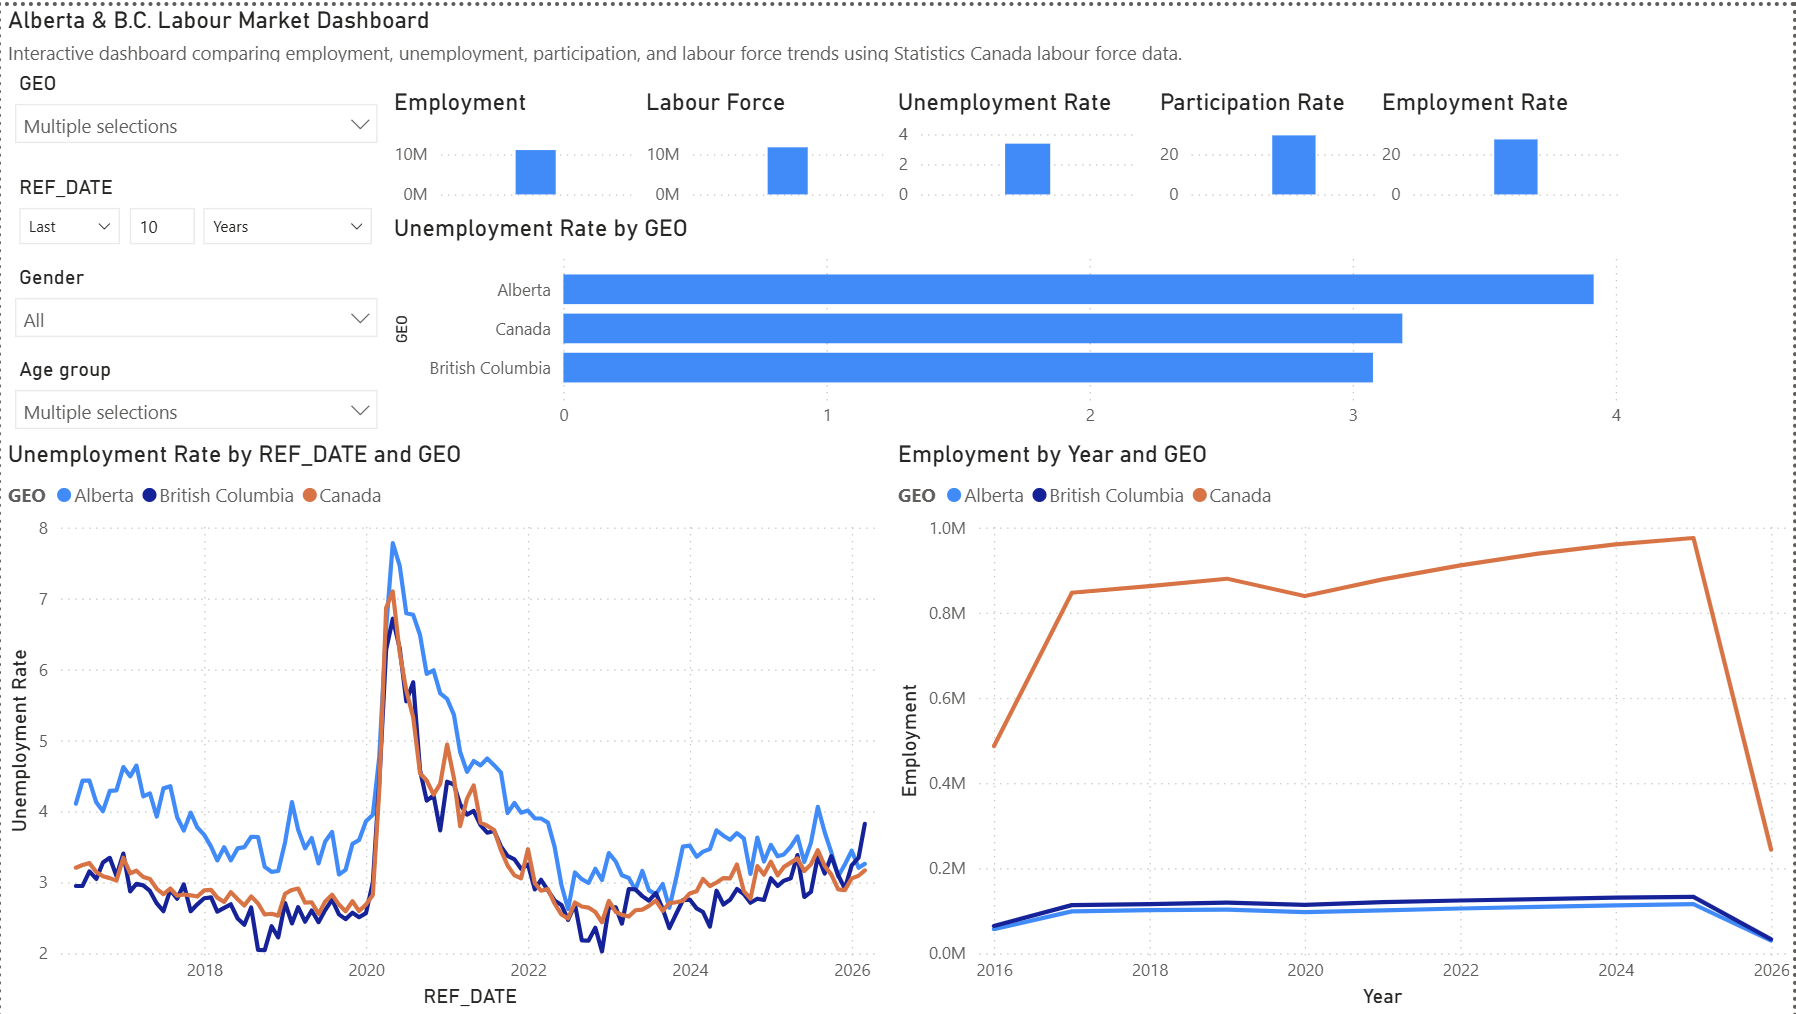

Layout of this report page (visuals, bound fields, positions):
{"tool":"powerbi","page":{"name":"Page 1","canvas":[1280,720],"ordinal":0},"visuals":[{"type":"columnChart","fields":{"Y":["14100287.Employment"]},"box":[275,58.3,180,90],"z":0},{"type":"slicer","fields":{"Values":["14100287.GEO"]},"box":[0,40.9,279.1,74.9],"z":1000},{"type":"slicer","fields":{"Values":["14100287.REF_DATE"]},"box":[0,115.7,279.1,64.7],"z":2000},{"type":"slicer","fields":{"Values":["14100287.Gender"]},"box":[0,180.4,279.1,64.7],"z":3000},{"type":"slicer","fields":{"Values":["14100287.Age group"]},"box":[0,245.1,279.1,64.7],"z":4000},{"type":"lineChart","fields":{"Category":["14100287.REF_DATE"],"Y":["14100287.Unemployment Rate"],"Series":["14100287.GEO"]},"box":[0,310,635,410],"z":5000},{"type":"lineChart","fields":{"Category":["14100287.REF_DATE.Variation.Date Hierarchy.Year","14100287.REF_DATE.Variation.Date Hierarchy.Quarter","14100287.REF_DATE.Variation.Date Hierarchy.Month","14100287.REF_DATE.Variation.Date Hierarchy.Day"],"Y":["14100287.Employment"],"Series":["14100287.GEO"]},"box":[635,310,646.7,410],"z":6000},{"type":"clusteredBarChart","fields":{"Category":["14100287.GEO"],"Y":["14100287.Unemployment Rate"]},"box":[275,148.3,886.7,161.7],"z":7000},{"type":"textbox","title":"Alberta & B.C. Labour Market Dashboard","box":[0,0,876.2,40],"z":8000},{"type":"columnChart","fields":{"Y":["14100287.Labour Force"]},"box":[455.5,58.2,180,90],"z":9000},{"type":"columnChart","fields":{"Y":["14100287.Unemployment Rate"]},"box":[635.5,59.1,180,90],"z":10000},{"type":"columnChart","fields":{"Y":["14100287.Participation Rate"]},"box":[822.7,59.1,180,90],"z":11000},{"type":"columnChart","fields":{"Y":["14100287.Employment Rate"]},"box":[981.1,58.9,180,90],"z":12000}]}

Visuals, with their boxes in screenshot pixels (x1, y1, x2, y2), scaled from the page's 1280x720 canvas onto the 1796x1014 screenshot:
columnChart - 14100287.Employment: {"left": 386, "top": 82, "right": 638, "bottom": 209}
slicer - 14100287.GEO: {"left": 0, "top": 58, "right": 392, "bottom": 163}
slicer - 14100287.REF_DATE: {"left": 0, "top": 163, "right": 392, "bottom": 254}
slicer - 14100287.Gender: {"left": 0, "top": 254, "right": 392, "bottom": 345}
slicer - 14100287.Age group: {"left": 0, "top": 345, "right": 392, "bottom": 436}
lineChart - 14100287.REF_DATE x 14100287.Unemployment Rate: {"left": 0, "top": 437, "right": 891, "bottom": 1013}
lineChart - 14100287.REF_DATE.Variation.Date Hierarchy.Year x 14100287.REF_DATE.Variation.Date Hierarchy.Quarter: {"left": 891, "top": 437, "right": 1795, "bottom": 1013}
clusteredBarChart - 14100287.GEO x 14100287.Unemployment Rate: {"left": 386, "top": 209, "right": 1630, "bottom": 437}
"Alberta & B.C. Labour Market Dashboard" textbox: {"left": 0, "top": 0, "right": 1229, "bottom": 56}
columnChart - 14100287.Labour Force: {"left": 639, "top": 82, "right": 892, "bottom": 209}
columnChart - 14100287.Unemployment Rate: {"left": 892, "top": 83, "right": 1144, "bottom": 210}
columnChart - 14100287.Participation Rate: {"left": 1154, "top": 83, "right": 1407, "bottom": 210}
columnChart - 14100287.Employment Rate: {"left": 1377, "top": 83, "right": 1629, "bottom": 210}
